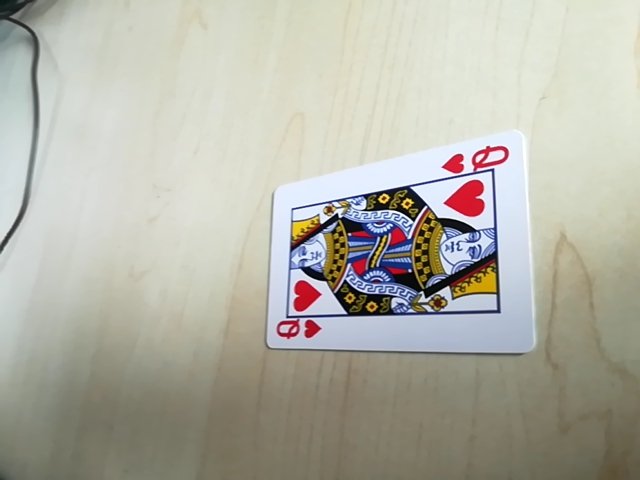hx q: (439, 142, 512, 178), (270, 316, 322, 346)
